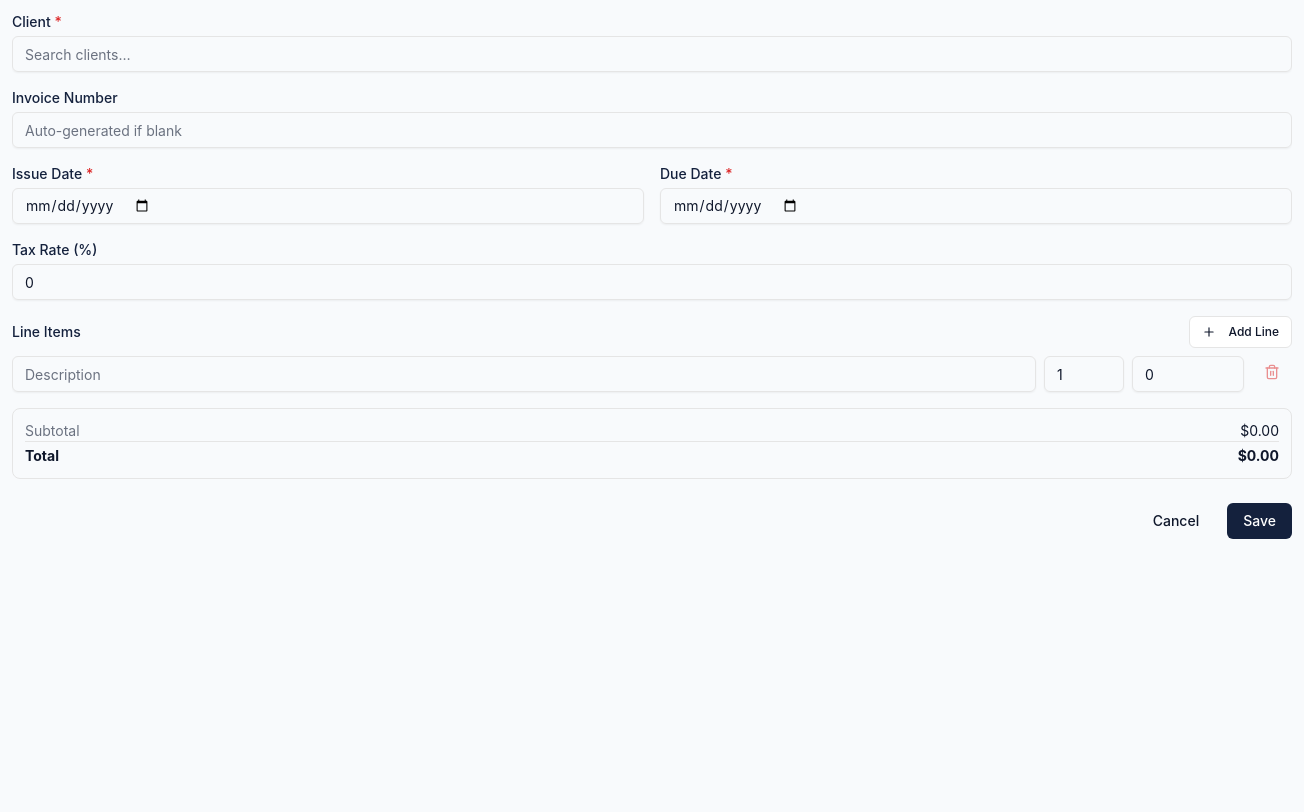
InvoiceForm › adds a line item when Add Line is clicked
expect the element with test id "line-item-0" is shown: met, box [12,356,1292,392]
Step 1. Click the button with test id "btn-add-line" → coordinates (1241, 332), box [1190,316,1292,348]
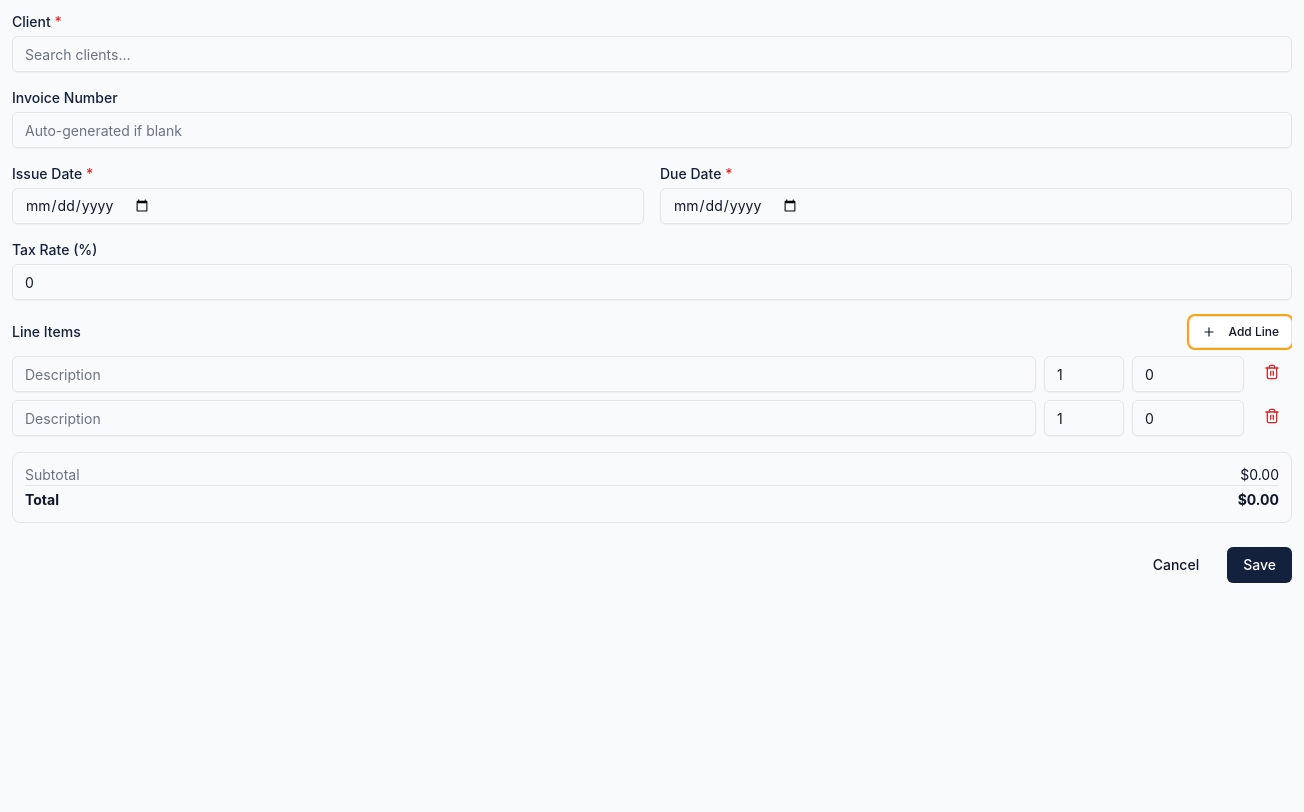
expect the element with test id "line-item-1" is shown: met, box [12,400,1292,436]
